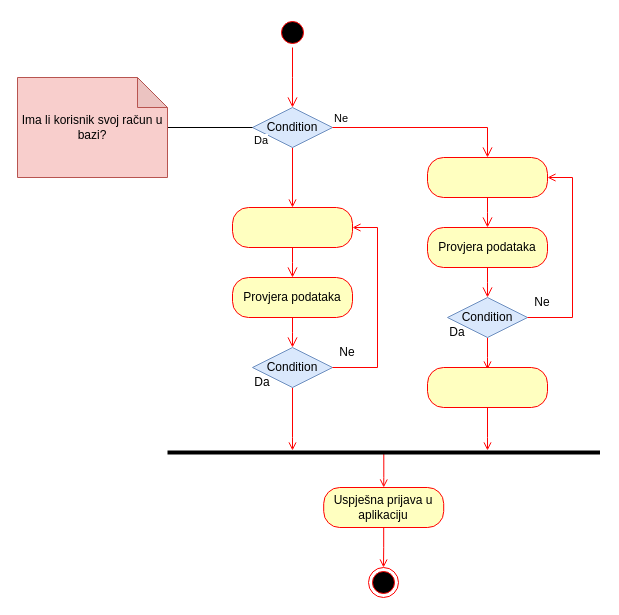
This 619x615 diagram has some shape labels left out. The shapes that lost their labels are listed below. From the top down, each one's centre as x and y in pixels, then its label:
At point (487, 177): "Unos podataka o korisniku".
At point (292, 227): "Unos login podataka".
At point (487, 387): "Kreiranje računa u bazi".
